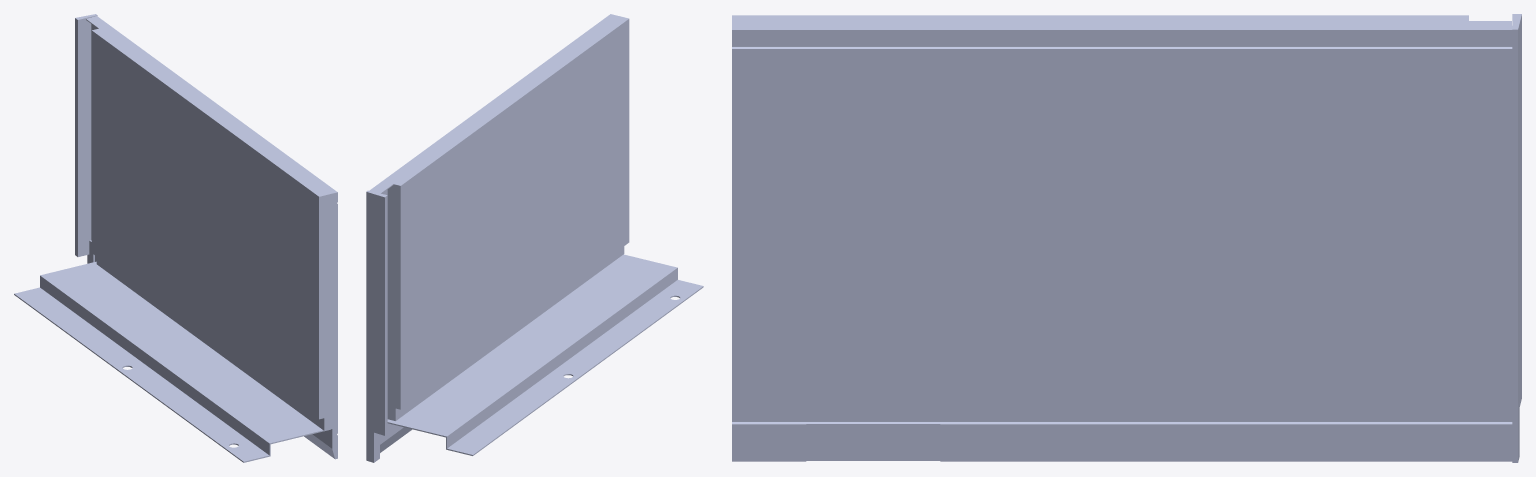
File: lg-kava-C300-m.glb
The picture shows the model from 3 angles, left to right: view 1: azimuth 30°, elevation 25°; view 2: azimuth 150°, elevation 25°; view 3: azimuth 270°, elevation 25°; orthographic projection. The views are drawn at different scales.
Visible parts, largest first — view 1: 49230693; view 2: 49230693; view 3: 49230693.
Part boxes in pixels (x1=…): 49230693: x1=14, y1=14, x2=337, y2=462; 49230693: x1=366, y1=14, x2=703, y2=462; 49230693: x1=732, y1=14, x2=1521, y2=462.
Bounding box in the file's own units: 0.0653 × 0.1777 × 0.2935.
